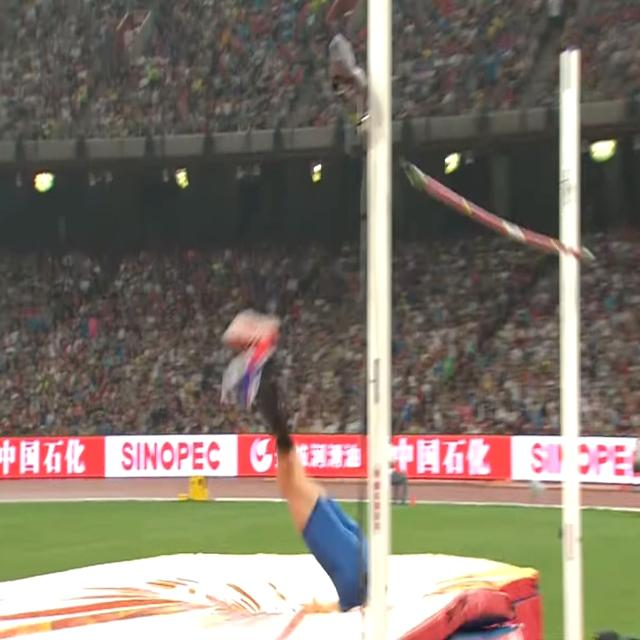land: (223, 311, 365, 608)
